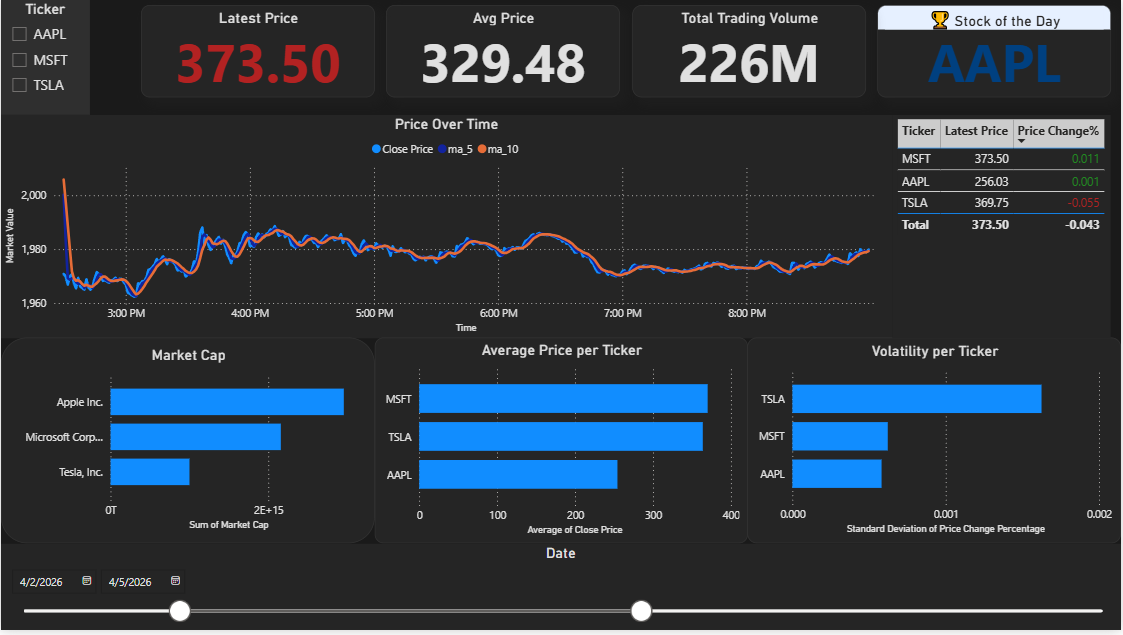

Layout of this report page (visuals, bound fields, positions):
{"tool":"powerbi","page":{"name":"Duplicate of Page Stock Market Analytics Dashboard [Dark Mode]","canvas":[1280,720],"ordinal":1},"visuals":[{"type":"lineChart","title":"Price Over Time","fields":{"Y":["Sum(public fact_stock_prices.close_price)","Sum(public fact_stock_prices.ma_5)","Sum(public fact_stock_prices.ma_10)"],"Category":["public fact_stock_prices.datetime"]},"box":[0,131.2,1018.8,255],"z":0},{"type":"barChart","title":"Volatility per Ticker","fields":{"Category":["public fact_stock_prices.ticker"],"Y":["Sum(public fact_stock_prices.price_change_pct)"]},"box":[852.5,386.2,427.5,235],"z":1000},{"type":"barChart","title":"Average Price per Ticker","fields":{"Category":["public fact_stock_prices.ticker"],"Y":["Avg(public fact_stock_prices.close_price)"]},"box":[426.9,386.2,426.2,235],"z":2000},{"type":"barChart","title":"Market Cap","fields":{"Category":["public fact_stock_prices.company_name"],"Y":["Sum(public fact_stock_prices.market_cap)"]},"box":[0,386.2,427.5,235],"z":3000},{"type":"slicer","title":"Ticker","fields":{"Values":["public fact_stock_prices.ticker"]},"box":[0,0,101.2,131.2],"z":4000},{"type":"slicer","title":"Date","fields":{"Values":["public fact_stock_prices.datetime"]},"box":[0,621.2,1280,98.8],"z":5000},{"type":"card","title":"🏆 Stock of the Day","fields":{"Values":["Min(public dim_tickers.ticker)"]},"box":[1001.2,6.1,267.5,105.5],"z":6000,"group":"g1"},{"type":"card","title":"Avg Price","fields":{"Values":["Avg(public fact_stock_prices.close_price)"]},"box":[440.1,6.1,267.5,105.5],"z":7000,"group":"g1"},{"type":"tableEx","fields":{"Values":["public fact_stock_prices.ticker","public fact_stock_prices.Latest Price","Sum(public fact_stock_prices.price_change_pct)"]},"box":[1019.2,130.7,249.4,255.4],"z":8000},{"type":"card","title":"Total Trading Volume","fields":{"Values":["Sum(public fact_stock_prices.volume)"]},"box":[720.6,6.1,267.5,105.5],"z":9000,"group":"g1"},{"type":"card","title":"Latest Price","fields":{"Values":["public fact_stock_prices.Latest Price"]},"box":[159.5,6.1,267.5,105.5],"z":10000,"group":"g1"},{"type":"group","id":"g1","title":"Group 1","box":[159.5,6.1,1109.2,105.5],"z":10001}]}

Visuals, with their boxes in screenshot pixels (x1, y1, x2, y2), scaled from the page's 1280x720 canvas onto the 1123x635 screenshot:
"Price Over Time" lineChart: x1=0 y1=116 x2=894 y2=341
"Volatility per Ticker" barChart: x1=748 y1=341 x2=1122 y2=548
"Average Price per Ticker" barChart: x1=375 y1=341 x2=748 y2=548
"Market Cap" barChart: x1=0 y1=341 x2=375 y2=548
"Ticker" slicer: x1=0 y1=0 x2=89 y2=116
"Date" slicer: x1=0 y1=548 x2=1122 y2=634
"🏆 Stock of the Day" card: x1=878 y1=5 x2=1113 y2=98
"Avg Price" card: x1=386 y1=5 x2=621 y2=98
tableEx - public fact_stock_prices.ticker x public fact_stock_prices.Latest Price: x1=894 y1=115 x2=1113 y2=341
"Total Trading Volume" card: x1=632 y1=5 x2=867 y2=98
"Latest Price" card: x1=140 y1=5 x2=375 y2=98
"Group 1" group: x1=140 y1=5 x2=1113 y2=98
